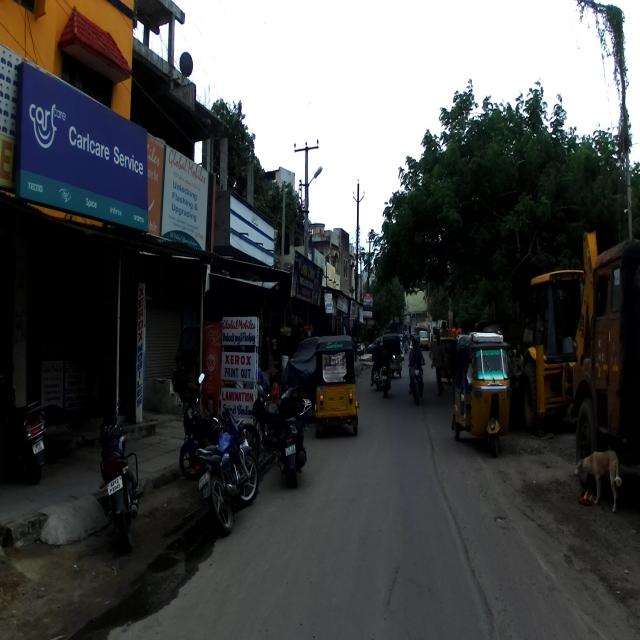autorickshaw: (451, 330, 512, 458)
motorcycle: (193, 407, 259, 536), (95, 402, 143, 550), (235, 392, 312, 463)
scooter: (274, 379, 306, 488)
